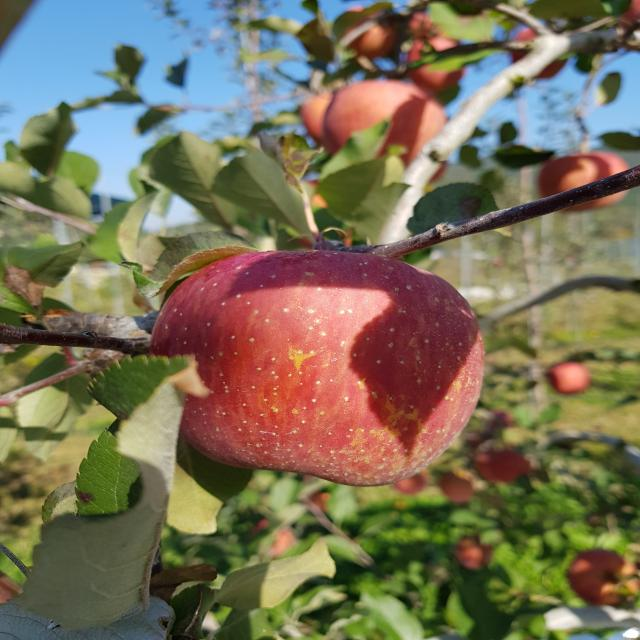fresh: (133, 241, 493, 497)
